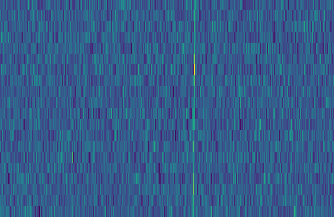signal: (188, 0, 199, 217)
